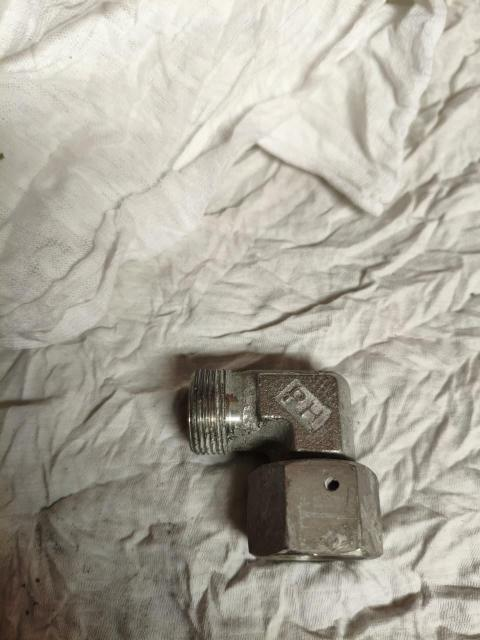Metal: (187, 363, 353, 463), (245, 465, 385, 563)
